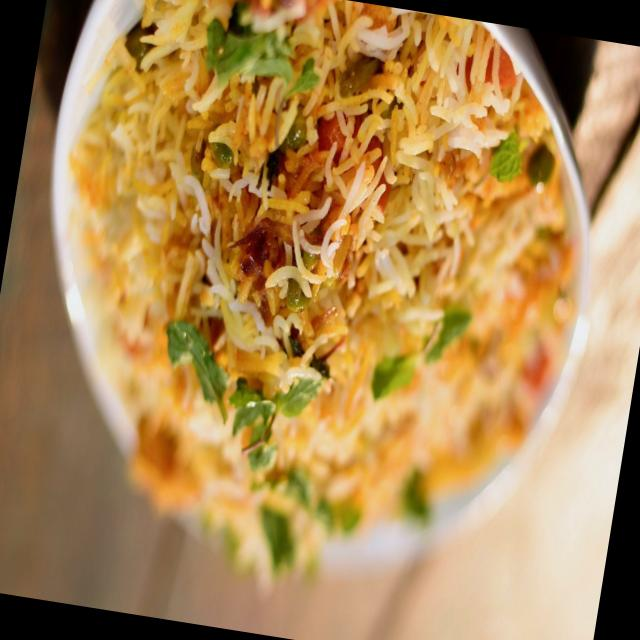Biryani: (5, 0, 615, 639)
